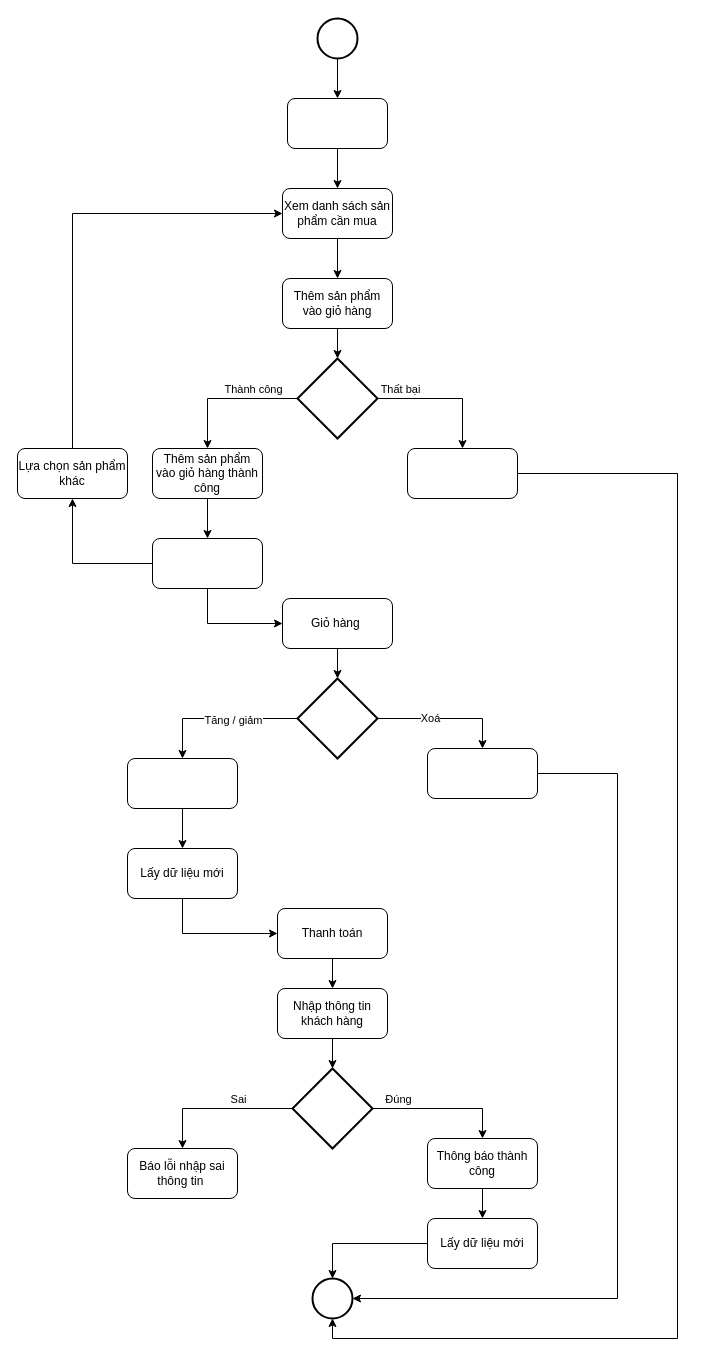
The diagram is 703 pixels wide and 1364 high, and some of its shapes have lost their labels. The shapes that lost their labels are listed below. From the top down, each one's centre as x and y in pixels, then its label:
At [337,123]: "Trang chủ cửa hàng".
At [462,473]: "Thông báo lỗi".
At [207,563]: "Sản phẩm khác".
At [182,783]: "Tăng / giảm số lượng sản phẩm".
At [482,773]: "Xoá sản phẩm".
